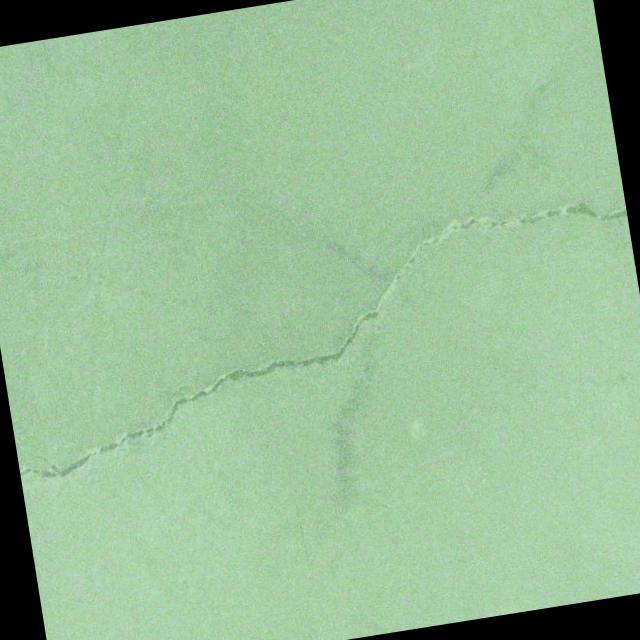crack: (0, 191, 640, 484)
